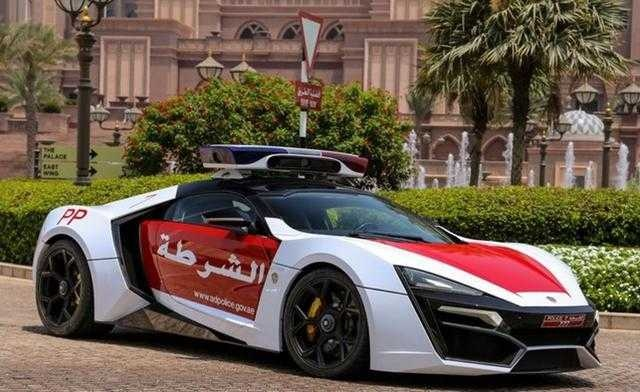Police Car: (31, 112, 620, 392)
